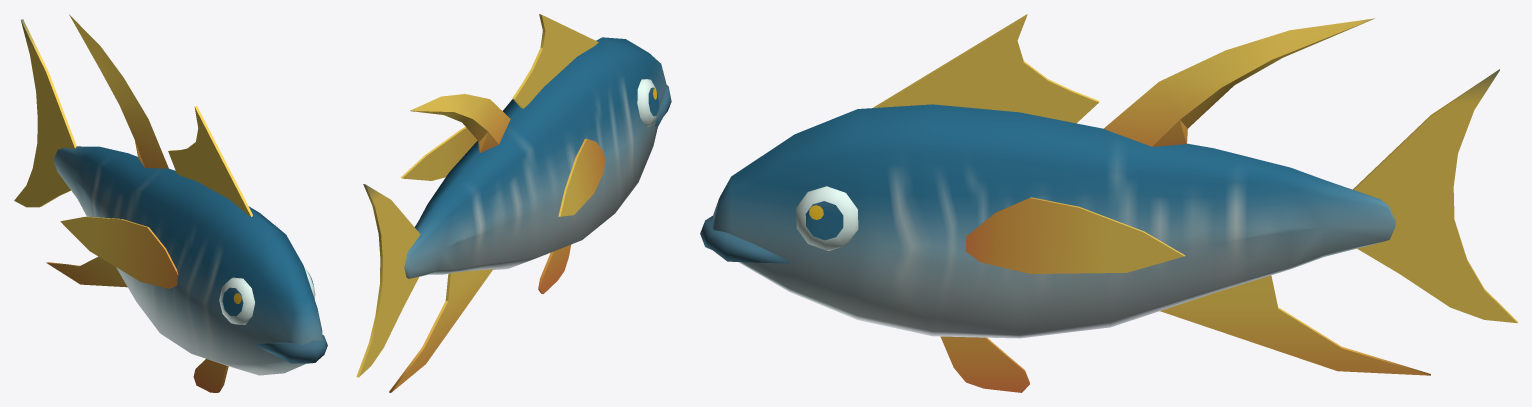
The picture shows the model from 3 angles, left to right: view 1: azimuth 30°, elevation 25°; view 2: azimuth 150°, elevation 25°; view 3: azimuth 270°, elevation 25°; orthographic projection. The views are drawn at different scales.
Parts seen in each view (by area): view 1: Fish_YellowTuna; view 2: Fish_YellowTuna; view 3: Fish_YellowTuna.
Boxes of the visible parts, x1,y1,x2,y2 form: Fish_YellowTuna: (14, 14, 327, 392); Fish_YellowTuna: (356, 14, 671, 392); Fish_YellowTuna: (700, 14, 1517, 392).
Size of the model in its own units: 30.96 by 51.99 by 102.
